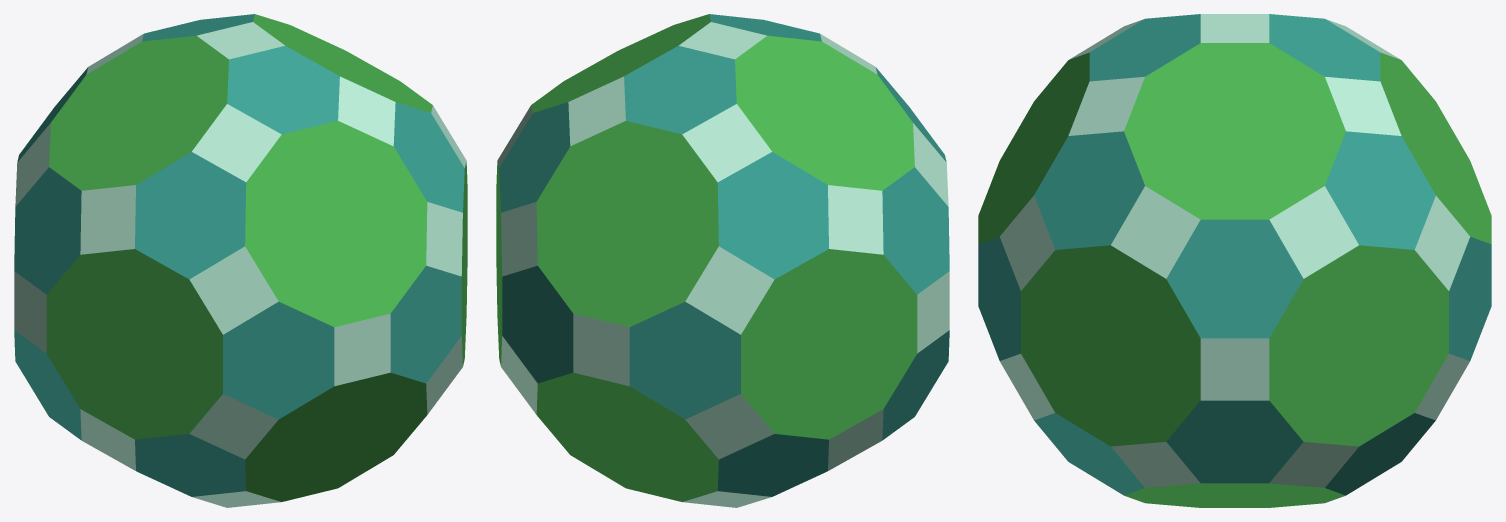
The model's file is 16.IcosidodecaedroTruncado.gltf.
The picture shows the model from 3 angles, left to right: view 1: azimuth 30°, elevation 25°; view 2: azimuth 150°, elevation 25°; view 3: azimuth 270°, elevation 25°; orthographic projection. The views are drawn at different scales.
Parts seen in each view (by area): view 1: Solid.001; view 2: Solid.001; view 3: Solid.001.
Boxes of the visible parts, left/top/right/bottom form: Solid.001: left=14, top=14, right=467, bottom=507; Solid.001: left=496, top=14, right=949, bottom=507; Solid.001: left=978, top=14, right=1491, bottom=507.
Bounding box in the file's own units: 1.62 × 1.62 × 1.62.
